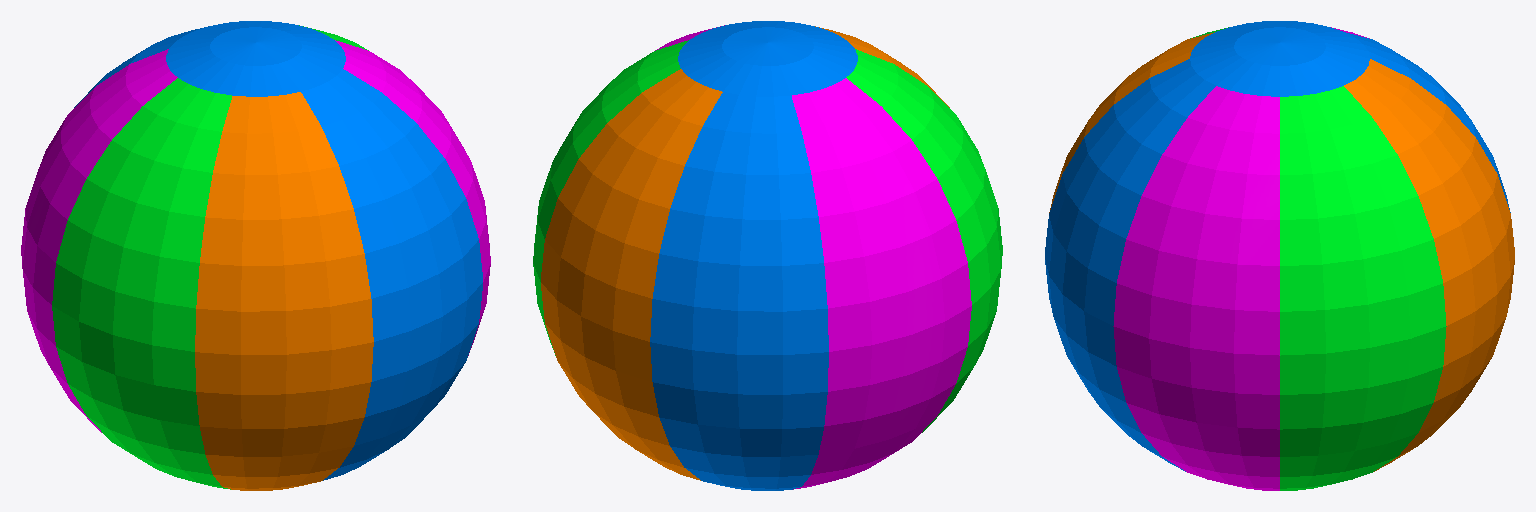
The picture shows the model from 3 angles: view 1: azimuth 30°, elevation 25°; view 2: azimuth 150°, elevation 25°; view 3: azimuth 270°, elevation 25°; orthographic projection.
Parts seen in each view (by area): view 1: Cube; view 2: Cube; view 3: Cube.
Part boxes in pixels (left/top/right/bottom): Cube: left=21, top=21, right=490, bottom=490; Cube: left=533, top=21, right=1002, bottom=490; Cube: left=1045, top=21, right=1514, bottom=490.
Size of the model in its own units: 2 by 2 by 2.
Materials: 1 (1 with a texture image).